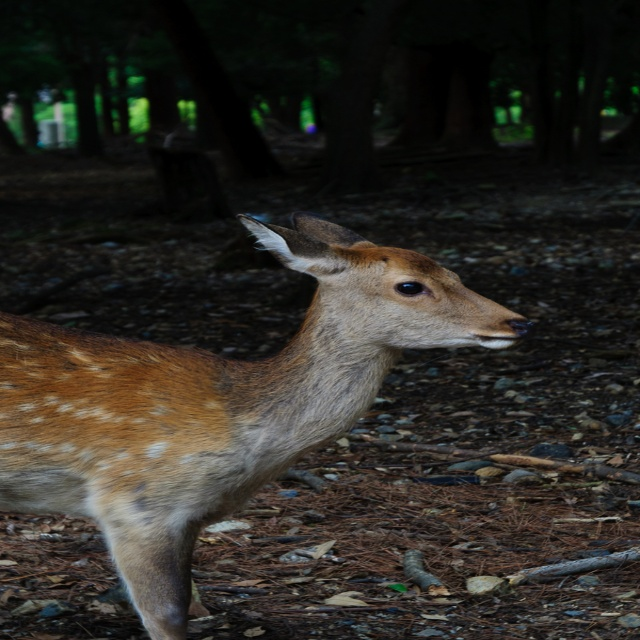Deer: (0, 209, 527, 640)
